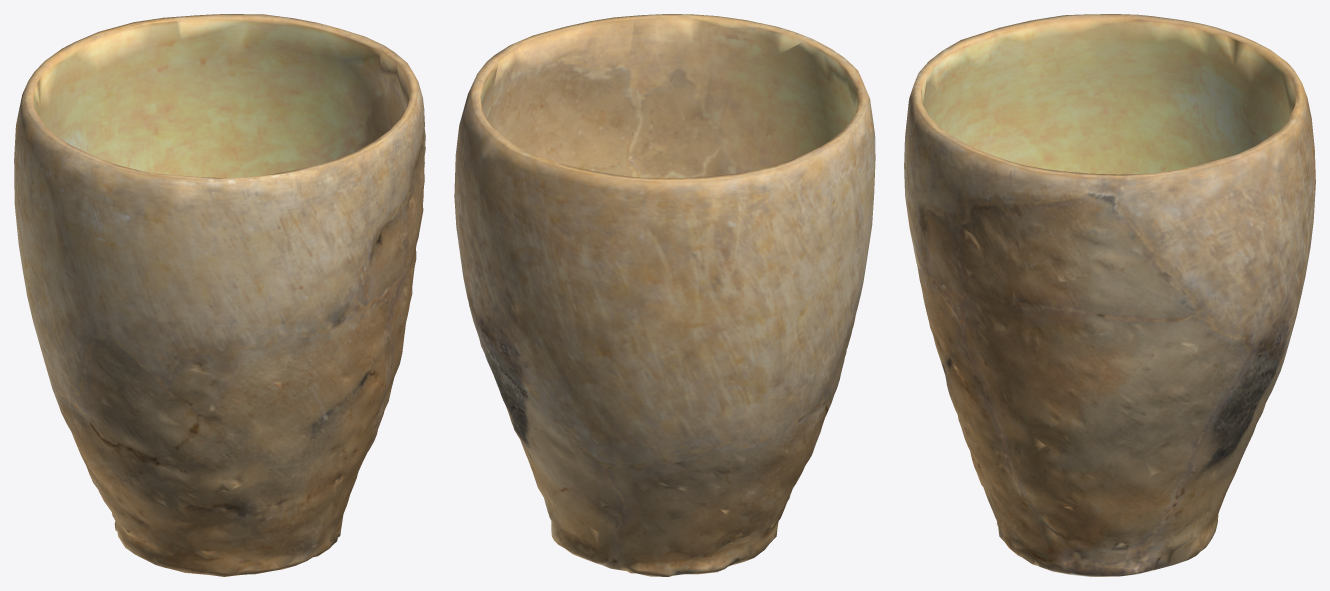
The picture shows the model from 3 angles, left to right: view 1: azimuth 30°, elevation 25°; view 2: azimuth 150°, elevation 25°; view 3: azimuth 270°, elevation 25°; orthographic projection.
Parts seen in each view (by area): view 1: NM0133_low; view 2: NM0133_low; view 3: NM0133_low.
Part boxes in pixels (left/top/right/bottom): NM0133_low: left=14, top=14, right=425, bottom=576; NM0133_low: left=454, top=14, right=875, bottom=576; NM0133_low: left=904, top=14, right=1315, bottom=576.
Bounding box in the file's own units: 263 × 305 × 261.
Materials: 1 (1 with a texture image).
